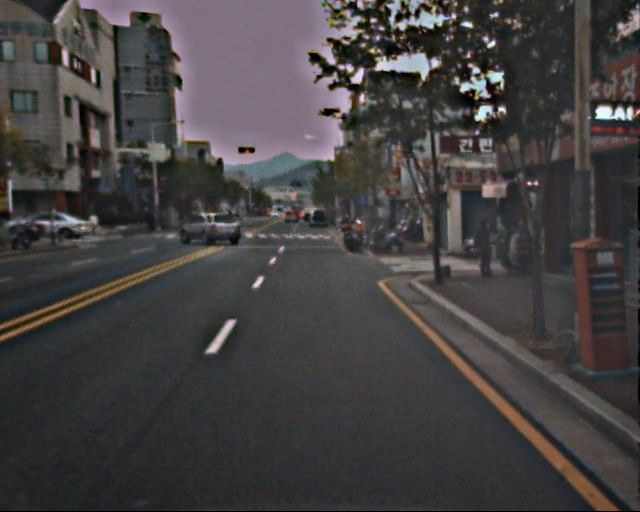person: (472, 218, 497, 280)
